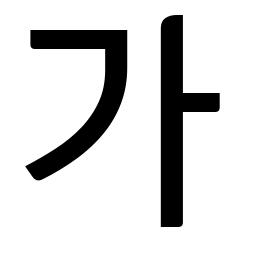Gaji: (151, 79, 203, 132)
